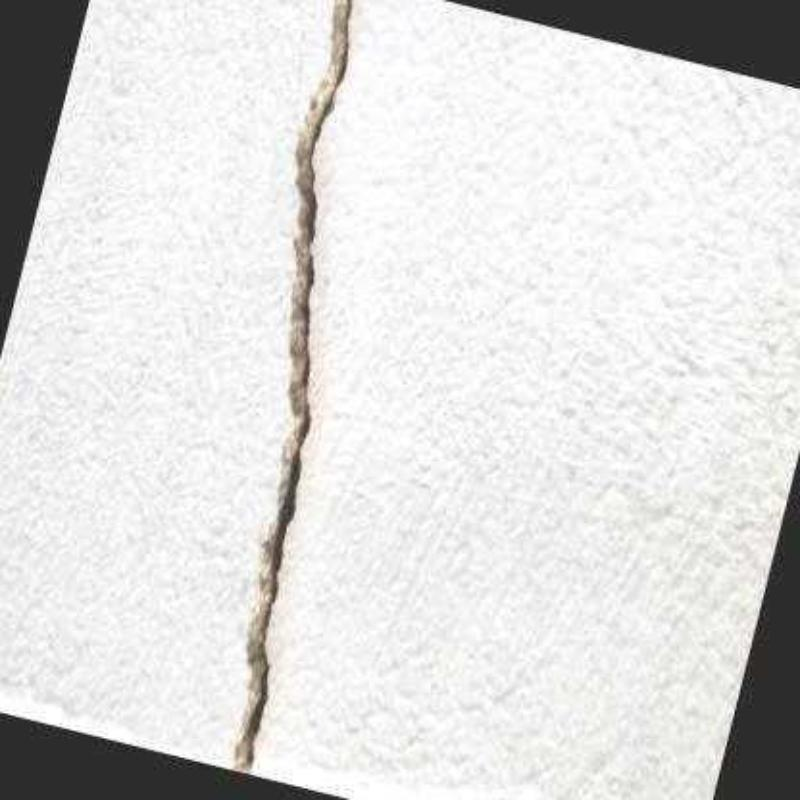pothole: (232, 2, 354, 776)
